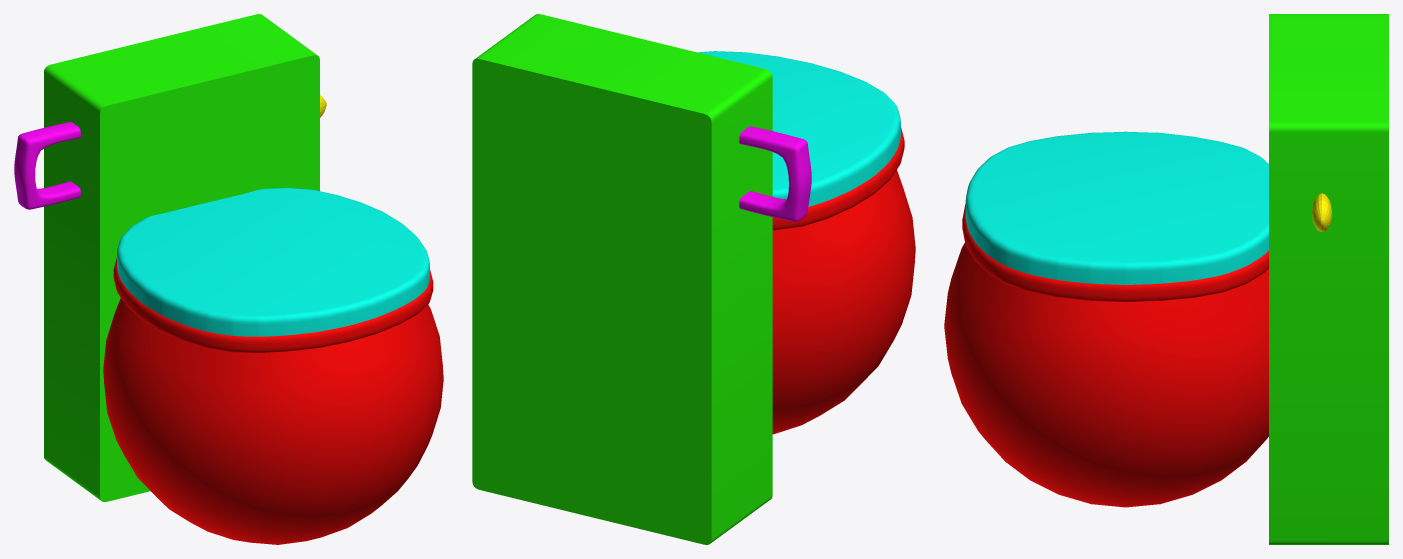
File: umgebung_toilette_low.FBX
3 views of the same model, side by side, from view 1: azimuth 30°, elevation 25°; view 2: azimuth 150°, elevation 25°; view 3: azimuth 270°, elevation 25° (orthographic). The views are drawn at different scales.
Visible parts, largest first — view 1: o_spuelkasten_low, o_toilletenschuessel_low, o_klodeckel_low, o_griff_low; view 2: o_spuelkasten_low, o_toilletenschuessel_low, o_klodeckel_low, o_griff_low; view 3: o_toilletenschuessel_low, o_spuelkasten_low, o_klodeckel_low, o_spuelhebel_low.
Part boxes in pixels (x1=…): o_spuelkasten_low: x1=44, y1=14, x2=319, y2=501; o_toilletenschuessel_low: x1=103, y1=258, x2=443, y2=544; o_klodeckel_low: x1=117, y1=188, x2=429, y2=336; o_griff_low: x1=14, y1=121, x2=80, y2=209; o_spuelkasten_low: x1=472, y1=14, x2=772, y2=544; o_toilletenschuessel_low: x1=772, y1=127, x2=915, y2=434; o_klodeckel_low: x1=698, y1=51, x2=900, y2=206; o_griff_low: x1=739, y1=126, x2=811, y2=221; o_toilletenschuessel_low: x1=944, y1=204, x2=1268, y2=507; o_spuelkasten_low: x1=1269, y1=14, x2=1388, y2=544; o_klodeckel_low: x1=965, y1=131, x2=1268, y2=284; o_spuelhebel_low: x1=1312, y1=193, x2=1331, y2=231.
Size of the model in its own units: 148 by 181 by 172.
